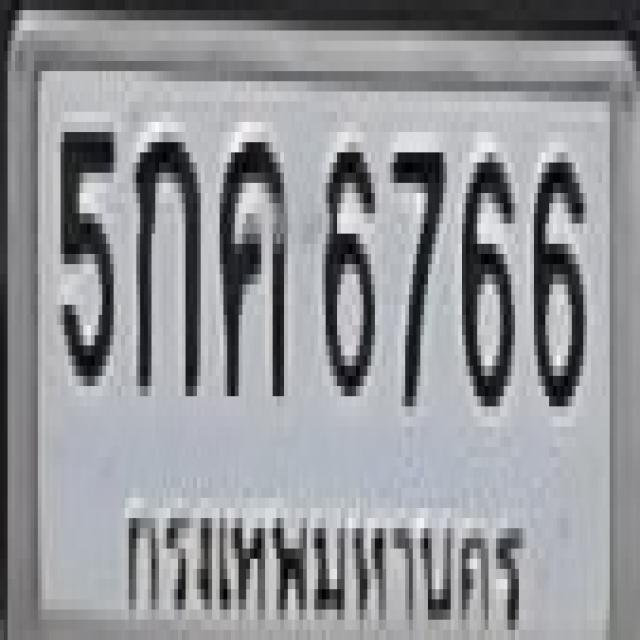5: (56, 122, 114, 376)
6: (458, 137, 511, 391), (530, 142, 583, 396), (322, 132, 371, 386)
7: (386, 142, 443, 396)
A01: (132, 122, 197, 386)
A04: (216, 127, 284, 391)
BKK: (120, 479, 533, 640)
